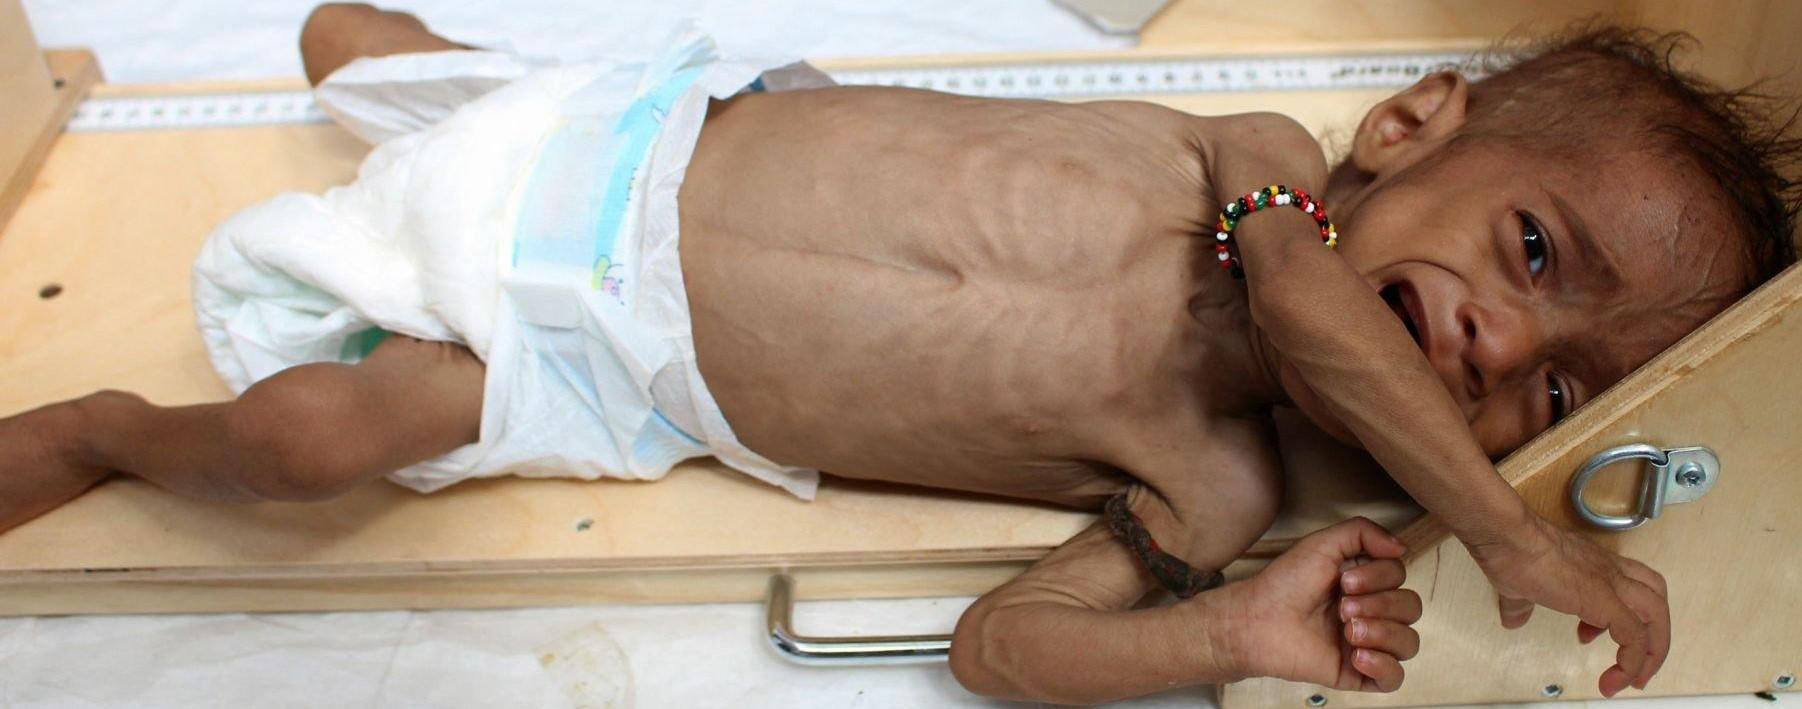Stunting: (1324, 46, 1802, 534)
